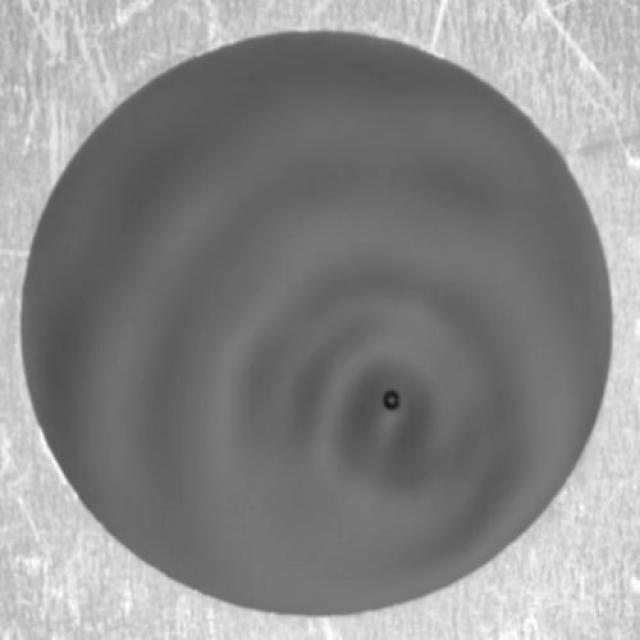droplet: (381, 387, 404, 413)
